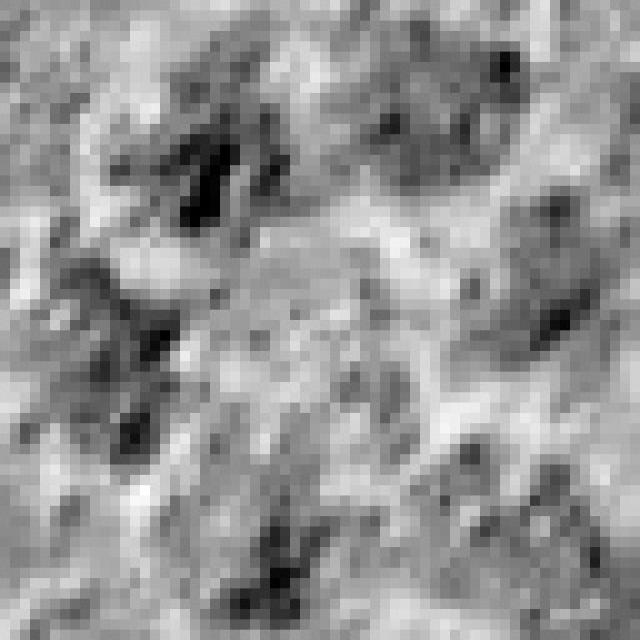inner: (195, 216, 418, 486)
lobe: (140, 410, 397, 640), (6, 243, 214, 486), (102, 27, 320, 256), (323, 16, 538, 203), (440, 181, 618, 403), (402, 438, 615, 619)
outer: (0, 0, 640, 640)
